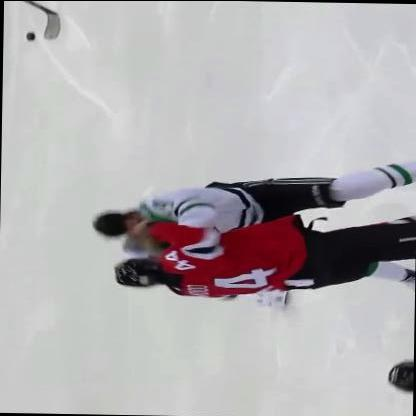voilence: (87, 162, 415, 304)
